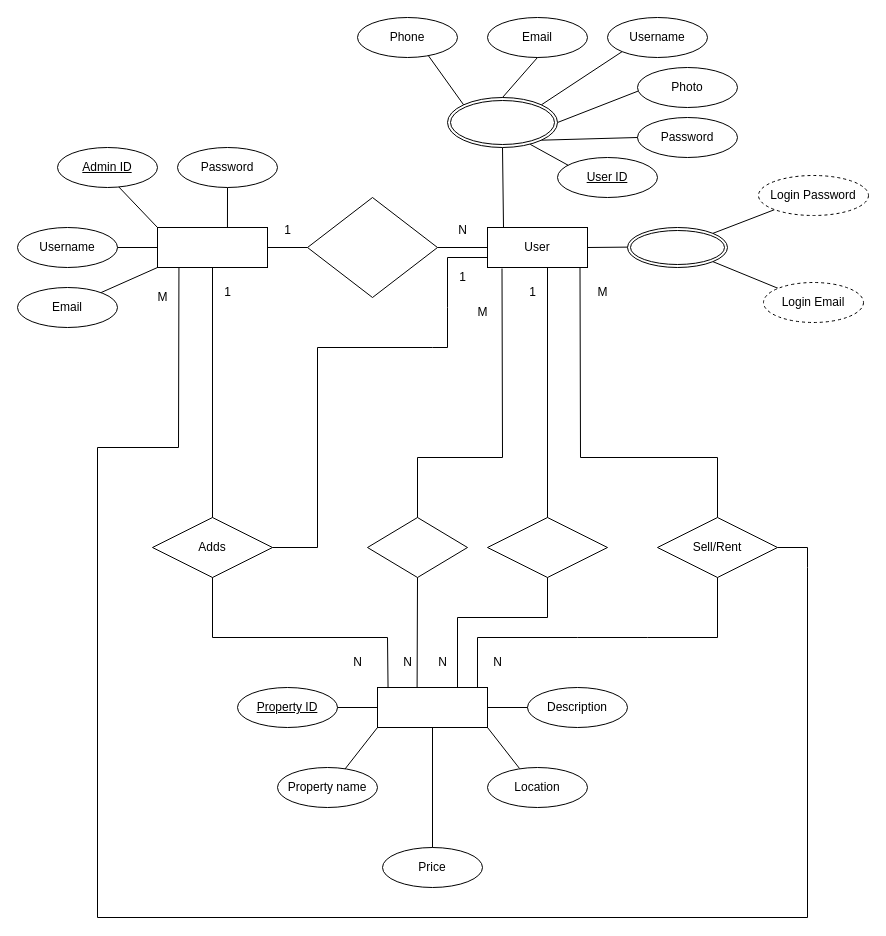
Image size: 886x936. Some labels were removed from this diagram. Each missing label, with the centre of its shape:
"Admin" belongs at (212,247).
"Controls/Manages" belongs at (372,247).
"Manages" belongs at (547,547).
"Property" belongs at (432,707).
"User Login" belongs at (677,247).
"User Registration" belongs at (502,122).
"Views" belongs at (417,547).
